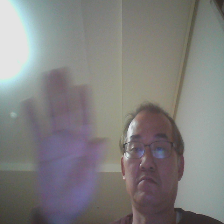hand: (19, 67, 108, 219)
